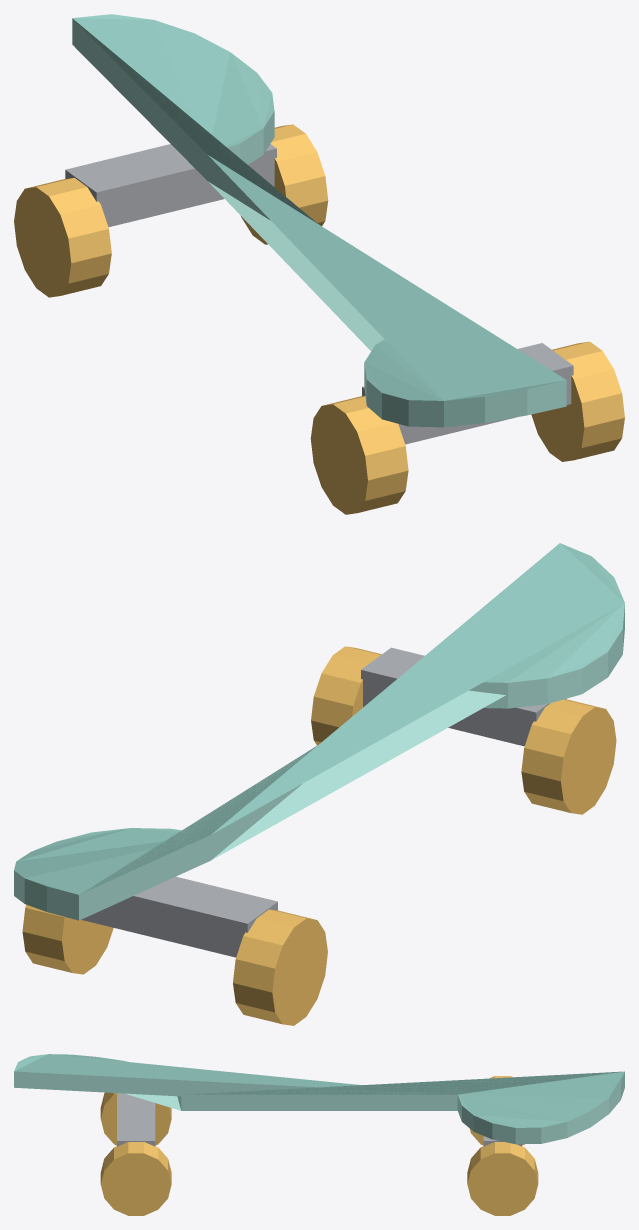
Rendered from Prop_Skateboard.fbx.
The picture shows the model from 3 angles, top to bottom: view 1: azimuth 30°, elevation 25°; view 2: azimuth 150°, elevation 25°; view 3: azimuth 270°, elevation 25°; orthographic projection. The views are drawn at different scales.
Visible parts, largest first — view 1: Prop_Skateboard; view 2: Prop_Skateboard; view 3: Prop_Skateboard.
Part boxes in pixels (x1,y1,x2,y2): Prop_Skateboard: (14, 14, 624, 514); Prop_Skateboard: (14, 543, 624, 1025); Prop_Skateboard: (14, 1054, 624, 1215).
Bounding box in the file's own units: 0.285 × 0.1813 × 0.95.
